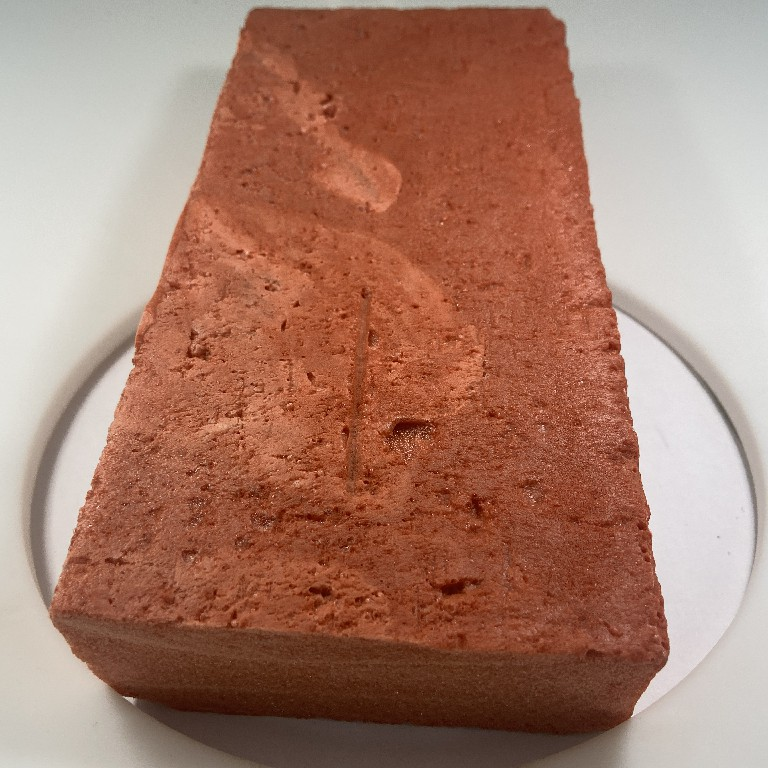brick: (46, 1, 674, 735)
